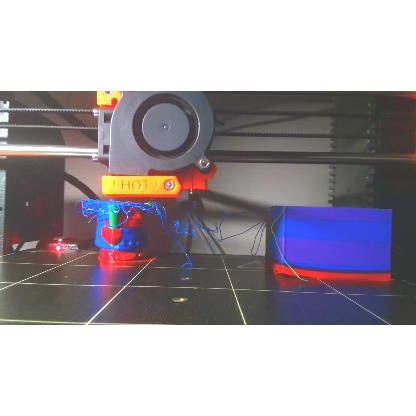fail: (78, 198, 270, 240)
